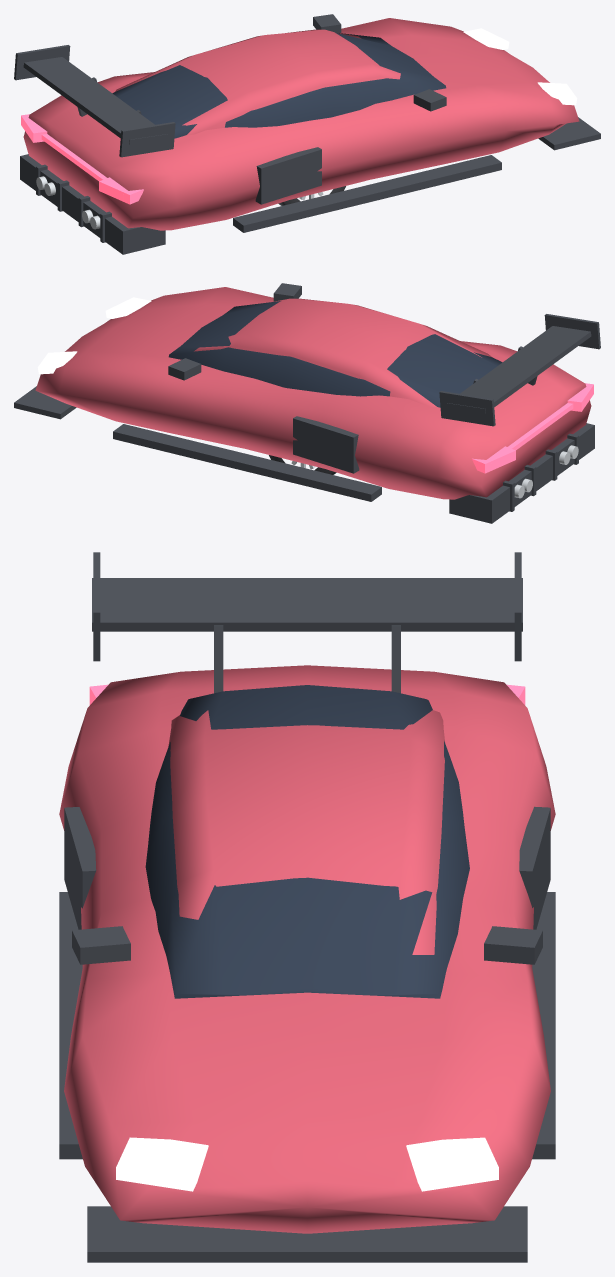
Rendered from car.glb.
3 views of the same model, one above another, from view 1: azimuth 30°, elevation 25°; view 2: azimuth 150°, elevation 25°; view 3: azimuth 270°, elevation 25° (orthographic). The views are drawn at different scales.
Visible parts, largest first — view 1: car_body, car_aero, car_canopy, car_taillights, car_headlights, car_exhaust; view 2: car_body, car_aero, car_canopy, car_taillights, car_headlights, car_exhaust; view 3: car_body, car_aero, car_canopy, car_headlights.
Part boxes in pixels (box(x1,y1,x2,y2)): car_body: box(23, 18, 579, 230); car_aero: box(14, 14, 600, 254); car_canopy: box(112, 32, 446, 138); car_taillights: box(21, 114, 143, 204); car_headlights: box(463, 28, 577, 105); car_exhaust: box(36, 176, 100, 229); car_body: box(35, 287, 591, 499); car_aero: box(14, 283, 600, 523); car_canopy: box(168, 301, 502, 407); car_taillights: box(472, 383, 593, 473); car_headlights: box(37, 297, 151, 374); car_exhaust: box(514, 445, 578, 498); car_body: box(59, 665, 555, 1233); car_aero: box(59, 552, 555, 1262); car_canopy: box(145, 685, 469, 998); car_headlights: box(116, 1137, 498, 1191).
Bounding box in the file's own units: 4.73 × 1.65 × 2.12.
